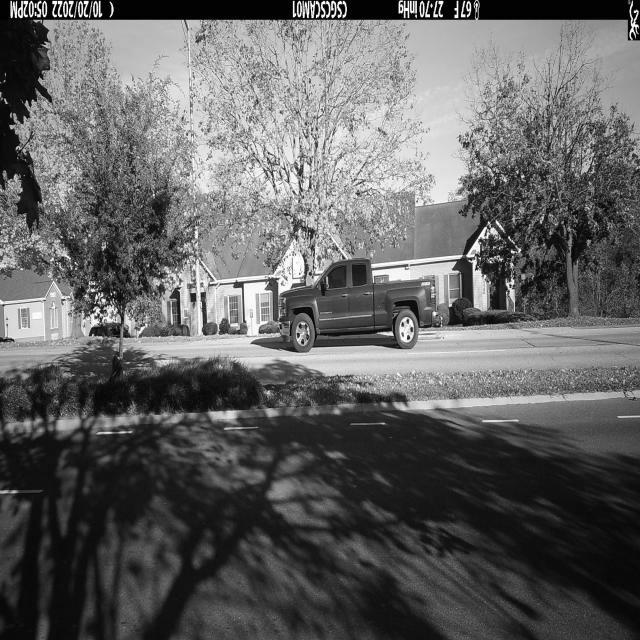Pickup: (278, 258, 443, 353)
